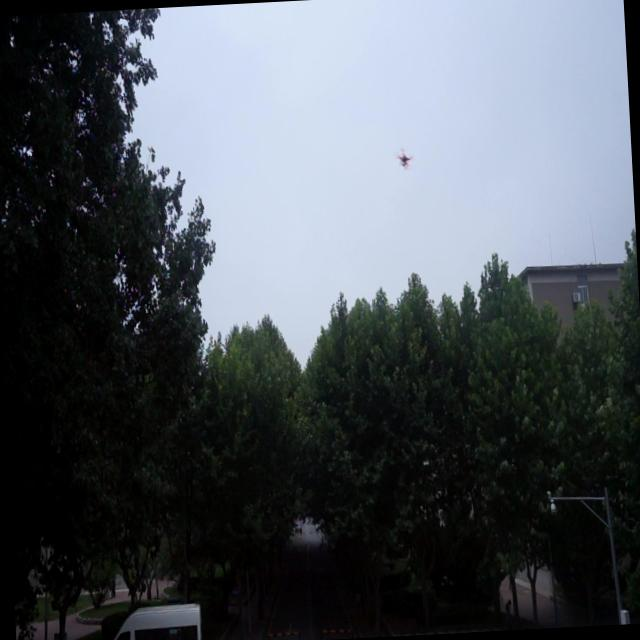drone: (396, 148, 414, 173)
